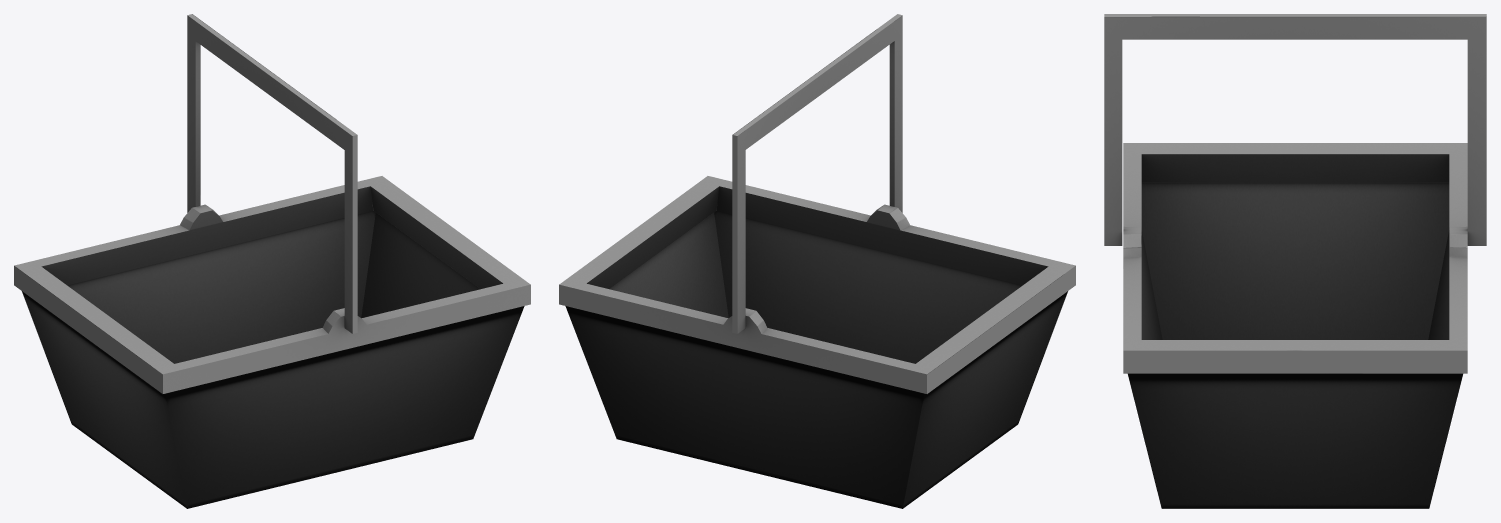
Rendered from basket2.fbx.
3 views of the same model, side by side, from view 1: azimuth 30°, elevation 25°; view 2: azimuth 150°, elevation 25°; view 3: azimuth 270°, elevation 25° (orthographic). The views are drawn at different scales.
Parts seen in each view (by area): view 1: Plane; view 2: Plane; view 3: Plane.
Boxes of the visible parts, bbox=[...] form: Plane: bbox=[14, 14, 530, 508]; Plane: bbox=[559, 14, 1075, 508]; Plane: bbox=[1104, 14, 1486, 508].
Bounding box in the file's own units: 77.87 × 72.12 × 60.56.
1 material, 1 textured.
